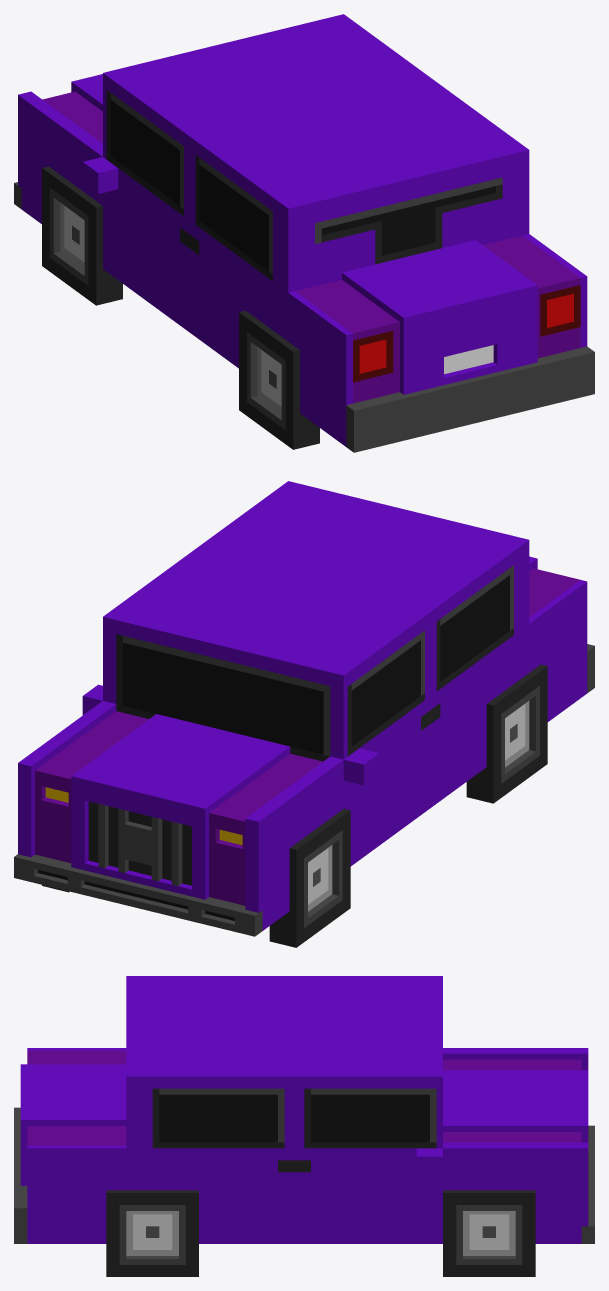
3 renders of one model, top to bottom at view 1: azimuth 30°, elevation 25°; view 2: azimuth 150°, elevation 25°; view 3: azimuth 270°, elevation 25°, orthographic. The views are drawn at different scales.
Visible parts, largest first — view 1: alll cars3-22; view 2: alll cars3-22; view 3: alll cars3-22.
Part boxes in pixels (bbox=[...]): alll cars3-22: bbox=[14, 14, 594, 452]; alll cars3-22: bbox=[14, 481, 594, 947]; alll cars3-22: bbox=[14, 976, 594, 1276].
Size of the model in its own units: 2.85 by 2.24 by 5.97.
Materials: 1 (1 with a texture image).
